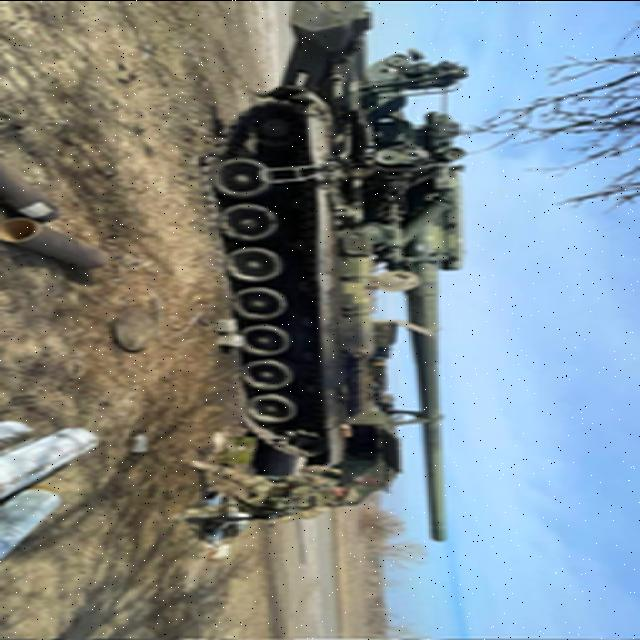ART: (211, 58, 482, 546)
